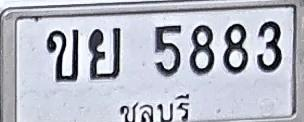3: (256, 20, 281, 72)
5: (154, 24, 182, 77)
8: (222, 22, 248, 74), (189, 24, 214, 75)
A02: (45, 29, 78, 82)
A34: (88, 27, 121, 80)
CBI: (114, 90, 193, 122)
